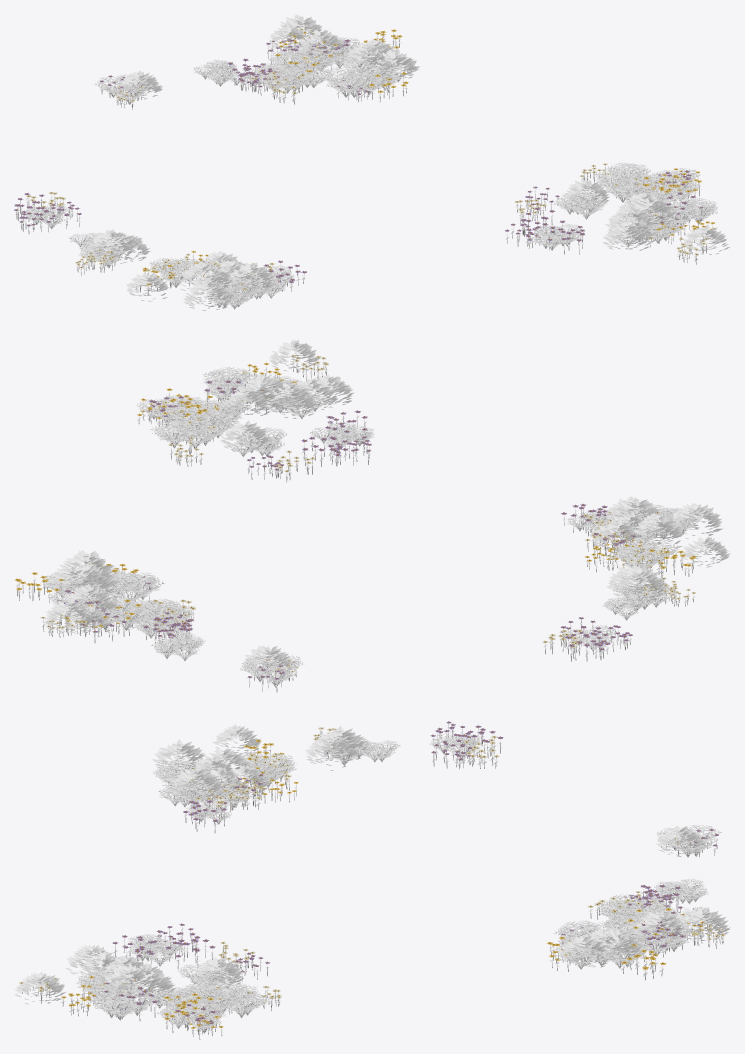
File: SM_DF_Nature_0_3_Flora.fbx
The picture shows the model from 3 angles, top to bottom: view 1: azimuth 30°, elevation 25°; view 2: azimuth 150°, elevation 25°; view 3: azimuth 270°, elevation 25°; orthographic projection. The views are drawn at different scales.
Parts seen in each view (by area): view 1: SM_DF_Nature_0_3_Flora; view 2: SM_DF_Nature_0_3_Flora; view 3: SM_DF_Nature_0_3_Flora.
Boxes of the visible parts, x1,y1,x2,y2 form: SM_DF_Nature_0_3_Flora: [14, 14, 729, 310]; SM_DF_Nature_0_3_Flora: [14, 339, 730, 692]; SM_DF_Nature_0_3_Flora: [14, 721, 730, 1039].
Bounding box in the file's own units: 2565 × 2601 × 196.
